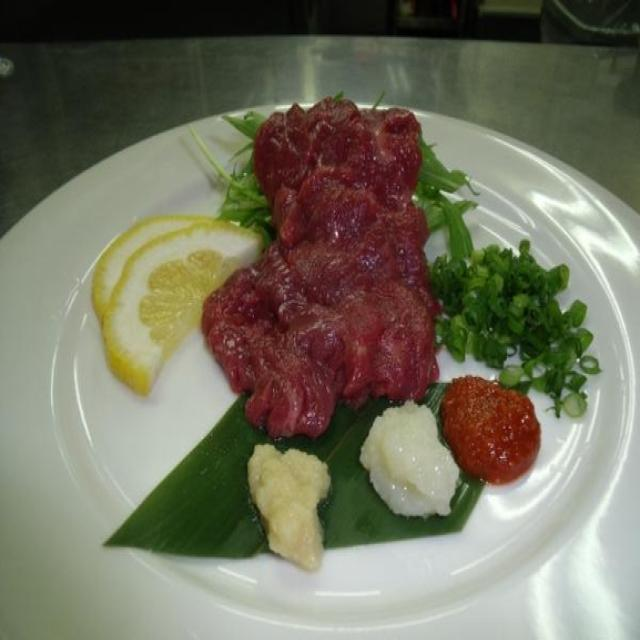刺身生食: (183, 90, 484, 461)
